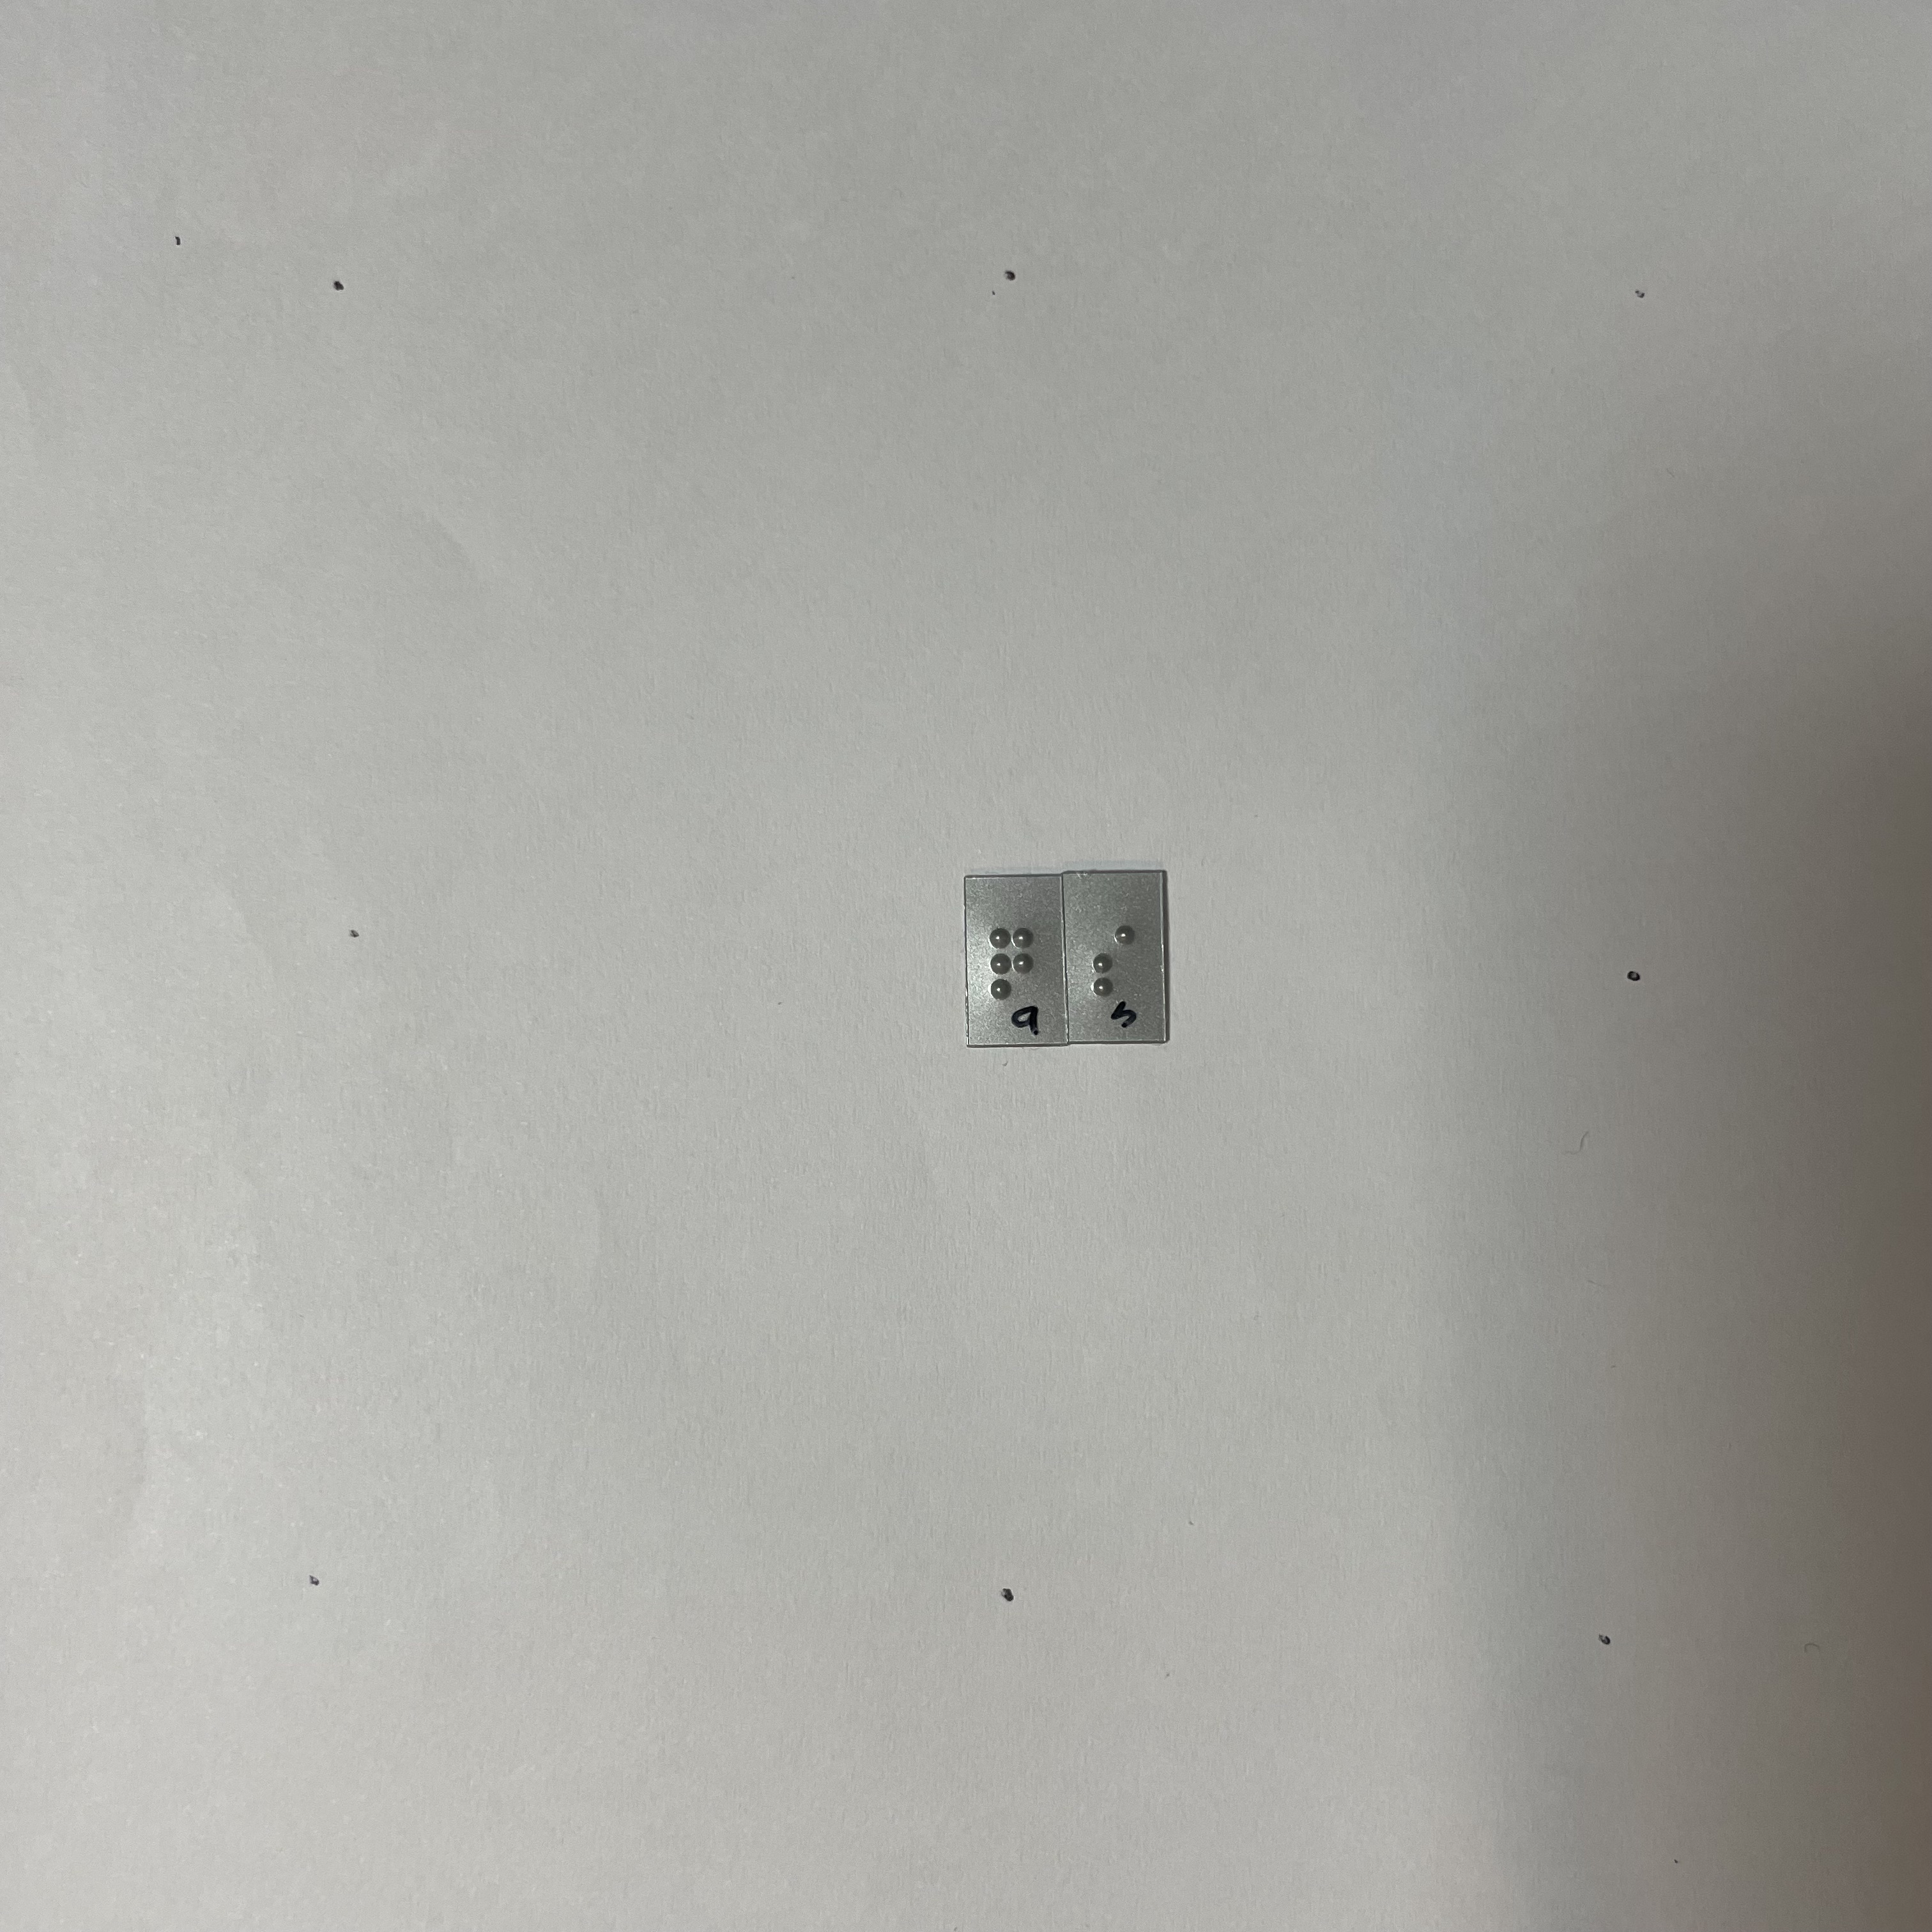q: (981, 916, 1043, 1002)
s: (1091, 919, 1148, 1002)
